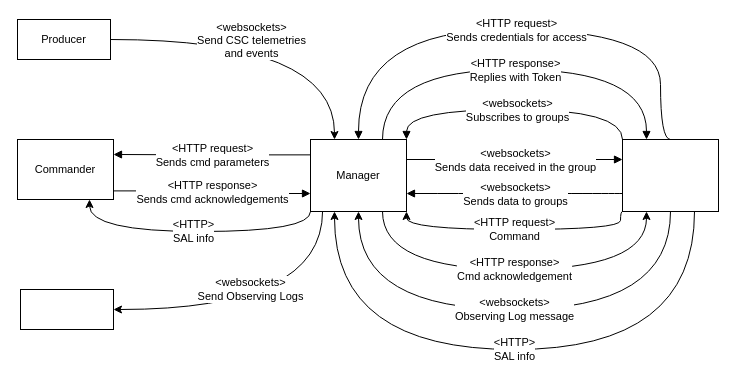
The diagram is 736 pixels wide and 380 high, and some of its shapes have lost their labels. Here are the shapes that lost their labels. From the top down, the centre of each, then its label:
At (x=670, y=175): "Frontend".
At (x=67, y=309): "LOVE CSC".
